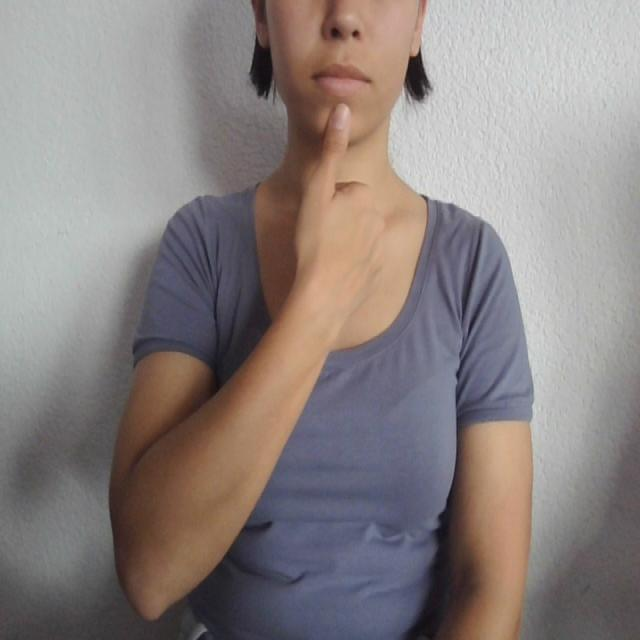Baba: (301, 49, 378, 179)
